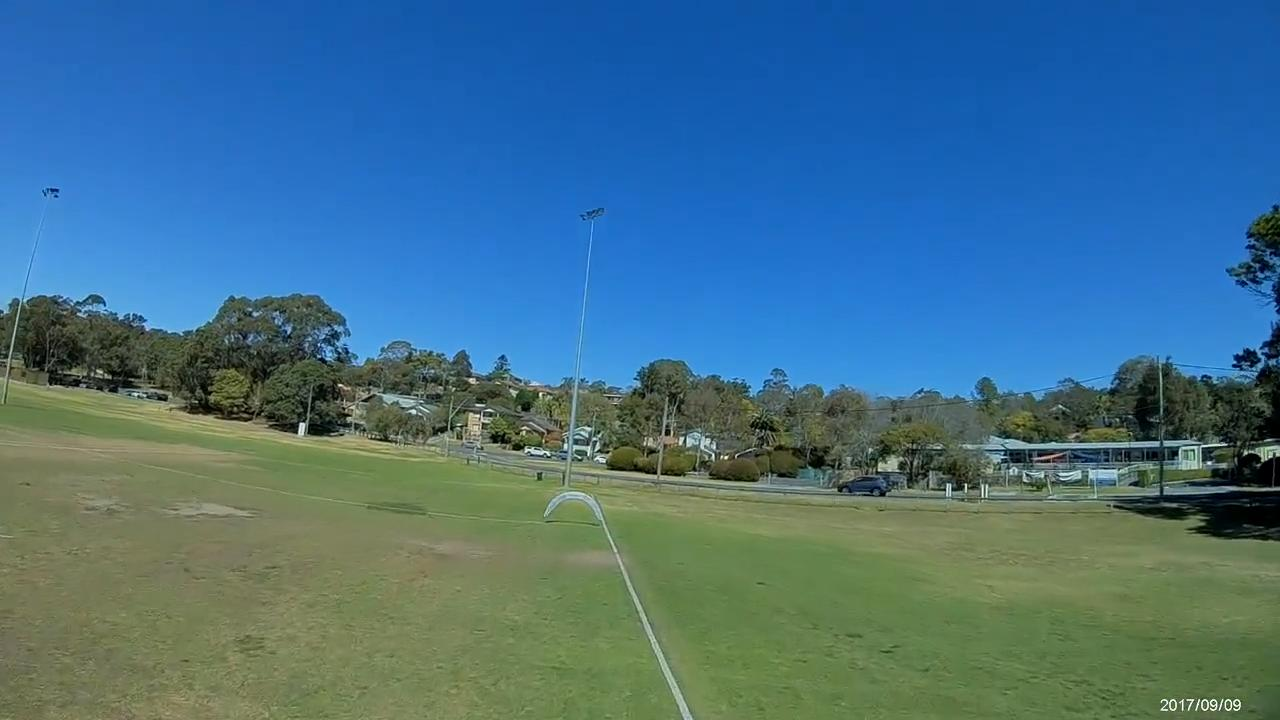gate: (544, 492, 600, 521)
